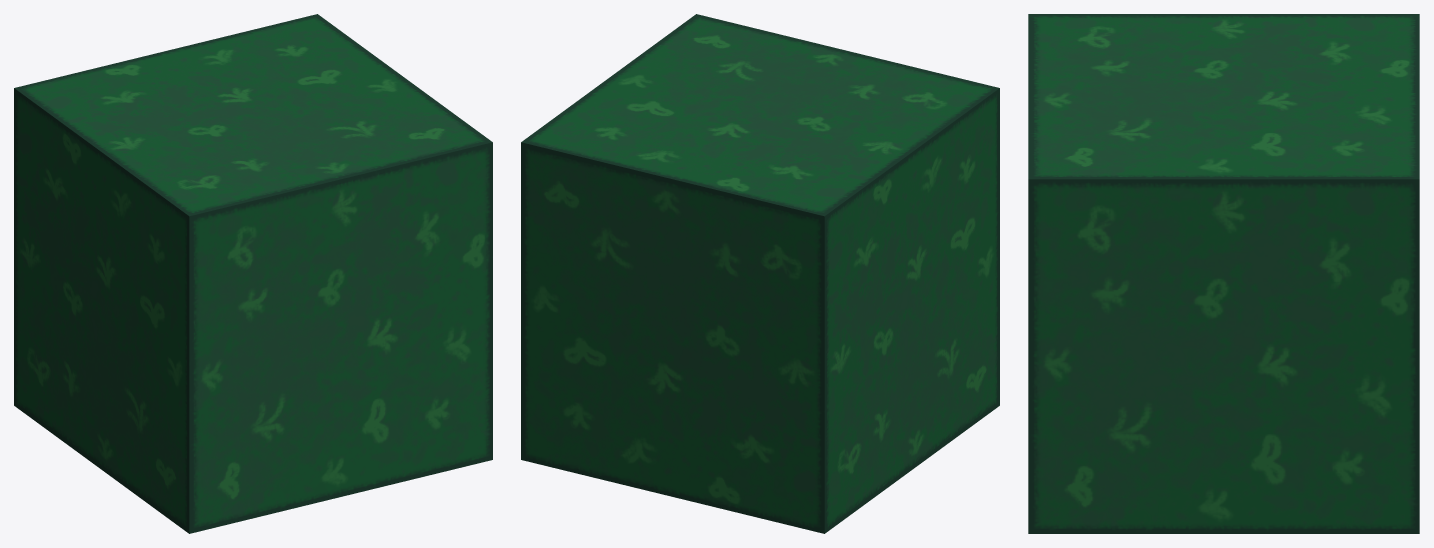
File: 0_grass.obj
3 renders of one model, left to right at view 1: azimuth 30°, elevation 25°; view 2: azimuth 150°, elevation 25°; view 3: azimuth 270°, elevation 25°, orthographic. The views are drawn at different scales.
Parts seen in each view (by area): view 1: 0_grass; view 2: 0_grass; view 3: 0_grass.
Boxes of the visible parts, <box> form: 0_grass: <box>14,14,492,533</box>; 0_grass: <box>521,14,999,533</box>; 0_grass: <box>1028,14,1419,533</box>.
Size of the model in its own units: 1 by 1 by 1.
1 material, 1 textured.
